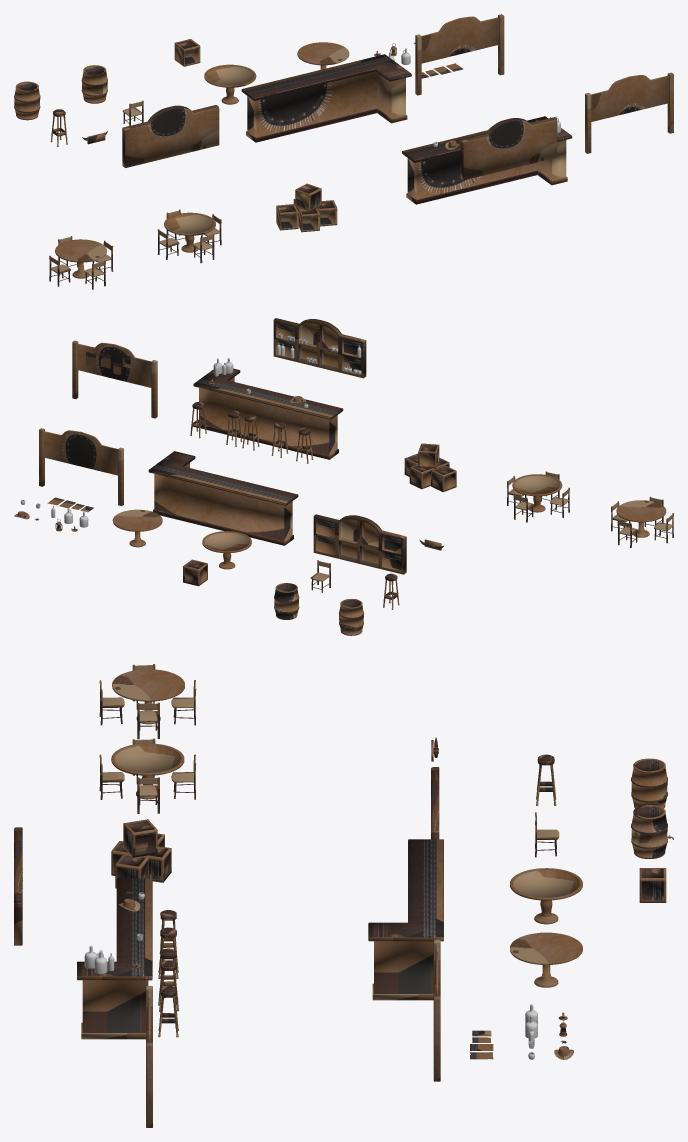
Rendered from SketchfabUploadAllItems.fbx.
3 renders of one model, top to bottom at view 1: azimuth 30°, elevation 25°; view 2: azimuth 150°, elevation 25°; view 3: azimuth 270°, elevation 25°, orthographic. The views are drawn at different scales.
Parts seen in each view (by area): view 1: Bar_low, Bar_low001, Shelf_low, Shelf_low001, WantedBoard_low, WantedBoard_low001, PokerTable_low, PokerTable_low001, StandardTable_low001, StandardTable_low, Barrel_low, Keg_low (+5 smaller); view 2: Bar_low, Bar_low001, Shelf_low, Shelf_low001, WantedBoard_low, WantedBoard_low001, PokerTable_low, PokerTable_low001, StandardTable_low, StandardTable_low001, Barrel_low, Keg_low (+3 smaller); view 3: Bar_low, Bar_low001, PokerTable_low, StandardTable_low, PokerTable_low001, StandardTable_low001, Keg_low, Barrel_low, Crate_low004, WantedBoard_low, Shelf_low001, WantedBoard_low001 (+3 smaller).
Part boxes in pixels (x1,y1,x2,y2): Bar_low: (241,54,411,142); Bar_low001: (402,116,572,204); Shelf_low: (122,105,219,167); Shelf_low001: (460,117,557,180); WantedBoard_low: (415,14,504,95); WantedBoard_low001: (585,72,673,153); PokerTable_low: (204,64,256,104); PokerTable_low001: (164,212,215,252); StandardTable_low001: (55,239,106,278); StandardTable_low: (297,42,349,69); Barrel_low: (14,81,40,120); Keg_low: (81,65,107,103); Bar_low: (148,451,298,545); Bar_low001: (193,366,343,459); Shelf_low: (313,514,406,574); Shelf_low001: (273,318,366,378); WantedBoard_low: (39,428,123,505); WantedBoard_low001: (72,340,157,418); PokerTable_low: (202,531,251,569); PokerTable_low001: (512,474,562,512); StandardTable_low: (112,509,162,547); StandardTable_low001: (616,500,666,537); Barrel_low: (339,599,363,635); Keg_low: (274,583,299,619); Bar_low: (368,839,443,1000); Bar_low001: (77,878,152,1039); PokerTable_low: (510,868,582,924); StandardTable_low: (510,932,582,987); PokerTable_low001: (111,743,184,799); StandardTable_low001: (112,669,184,724); Keg_low: (631,805,667,858); Barrel_low: (631,758,667,808); Crate_low004: (123,819,157,857); WantedBoard_low: (433,939,440,1081); Shelf_low001: (14,827,22,945); WantedBoard_low001: (146,986,152,1127).
Bounding box in the file's own units: 783 × 117 × 511.
